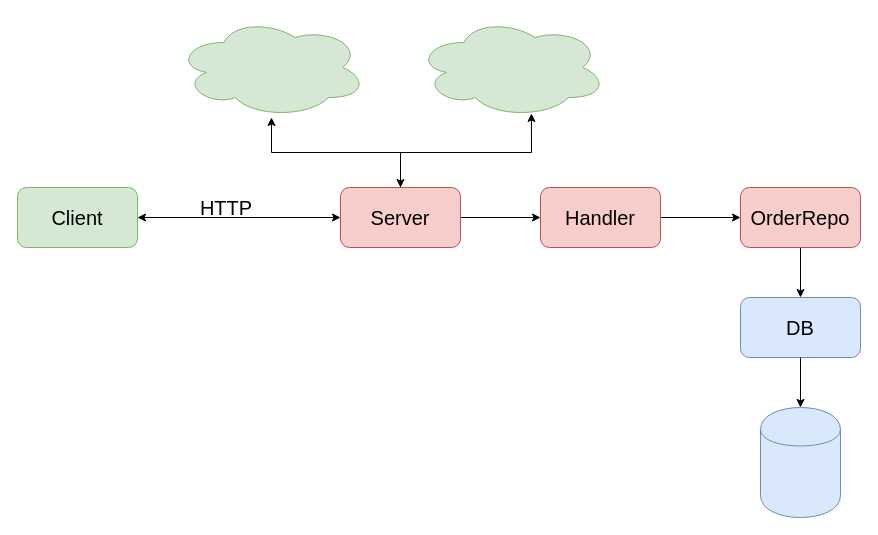
The diagram is 878 pixels wide and 535 high, and some of its shapes have lost their labels. The box of each missing label's shape, as (x1, y1, x2, y2) in pixels:
gorilla/mux: (176, 16, 366, 118)
net/http: (416, 16, 606, 118)
Orders: (760, 406, 840, 518)
